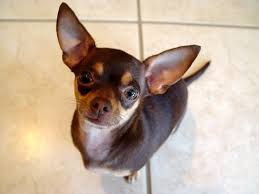chihuahua: (45, 2, 220, 188)
